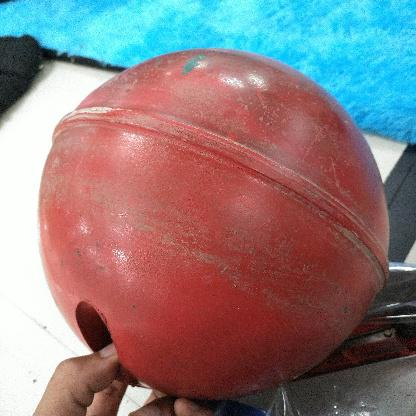red_buoy: (40, 48, 390, 404)
